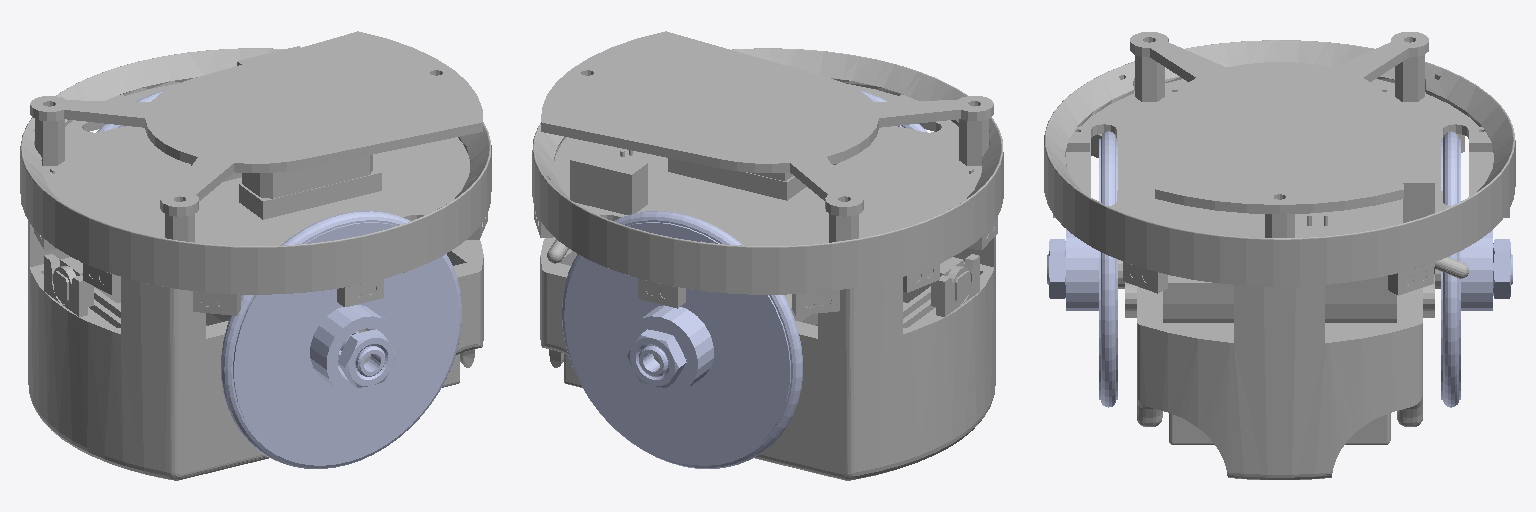
URDF robot description (epuck2):
<?xml version = "1.0" ?>
<robot
  name="epuck2">
<link name="base_link"/>

  <joint name= "base_link_to_main_body" type = "fixed">
   <parent link = "base_link"/>
   <child link = "main_body"/>
   <origin rpy="0 0 1.57079633" xyz="0.0 -0.0 0.0"/>
  </joint>


  <link
    name="main_body">
    <inertial>
      <origin
        xyz="9.0274E-05 -0.00041659 0.019845"
        rpy="0 0 0" />
      <mass
        value="0.063515" />
      <inertia
        ixx="3.2227E-05"
        ixy="-2.691E-07"
        ixz="4.7122E-08"
        iyy="2.4227E-05"
        iyz="-1.2861E-06"
        izz="3.3868E-05" />
    </inertial>
    <visual>
      <origin
        xyz="0 0 0"
        rpy="0 0 0" />
      <geometry>
        <mesh
          filename="package://thymio_description/meshes/main_body.STL" />
      </geometry>
      <material
        name="">
        <color
          rgba="0.75294 0.75294 0.75294 1" />
      </material>
    </visual>
    <collision>
      <origin
        xyz="0 0 0"
        rpy="0 0 0" />
      <geometry>
        <mesh
          filename="package://thymio_description/meshes/main_body.STL" />
      </geometry>
    </collision>
  </link>
  
  <link name="proximity_0_link"/>
  <joint name="proximity_0_joint" type="fixed">
    <origin rpy="0 0 -0.2617994" xyz="0.04 -0.011 0.035"/>
    <parent link="base_link"/>
    <child link="proximity_0_link"/>
  </joint>
  <gazebo reference="proximity_0_link">
    <sensor name="proximity_0_sensor" type="ray">
      <frame name="proximity_0_link"/>
      <visualize>true</visualize>
      <update_rate>10</update_rate>
      <always_on>true</always_on>
      <ray>
        <scan>
          <horizontal>
            <samples>1</samples>
            <resolution>1</resolution>
            <min_angle>-0.0</min_angle>
            <max_angle>-0.0</max_angle>
          </horizontal>
          <vertical>
            <samples>1</samples>
            <resolution>1</resolution>
            <min_angle>-0.0</min_angle>
            <max_angle>-0.0</max_angle>
          </vertical>
        </scan>
        <range>
          <min>0.0</min>
          <!---max>0.12</max-->
          <max>1.0</max>
          <resolution>0.005</resolution>
        </range>
        <noise>
          <type>gaussian</type>
          <mean>0.0</mean>
          <stddev>0.0025</stddev>
        </noise>
      </ray>
      <plugin filename="libgazebo_ros_ray_sensor.so" name="proximity_0_controller">
        <!-- TODO: check if field `radiation` is still valid-->
        <radiation_type>infrared</radiation_type>
        <ros>
          <namespace>my_namespace</namespace>
          <argument>~/out:=proximity_0</argument>
        </ros>
        <output_type>sensor_msgs/Range</output_type>
      </plugin>
    </sensor>
    <material>Gazebo/DarkGrey</material>
  </gazebo>
  
  <link name="proximity_1_link"/>
  <joint name="proximity_1_joint" type="fixed">
    <origin rpy="0 0 -0.78539816" xyz="0.026 -0.026 0.035"/>
    <parent link="base_link"/>
    <child link="proximity_1_link"/>
  </joint>
  <gazebo reference="proximity_1_link">
    <sensor name="proximity_1_sensor" type="ray">
      <frame name="proximity_1_link"/>
      <visualize>true</visualize>
      <update_rate>10</update_rate>
      <always_on>true</always_on>
      <ray>
        <scan>
          <horizontal>
            <samples>1</samples>
            <resolution>1</resolution>
            <min_angle>-0.0</min_angle>
            <max_angle>-0.0</max_angle>
          </horizontal>
          <vertical>
            <samples>1</samples>
            <resolution>1</resolution>
            <min_angle>-0.0</min_angle>
            <max_angle>-0.0</max_angle>
          </vertical>
        </scan>
        <range>
          <min>0.0</min>
          <!---max>0.12</max-->
          <max>1.0</max>
          <resolution>0.005</resolution>
        </range>
        <noise>
          <type>gaussian</type>
          <mean>0.0</mean>
          <stddev>0.0025</stddev>
        </noise>
      </ray>
      <plugin filename="libgazebo_ros_ray_sensor.so" name="proximity_1_controller">
        <!-- TODO: check if field `radiation` is still valid-->
        <radiation_type>infrared</radiation_type>
        <ros>
          <namespace>my_namespace</namespace>
          <argument>~/out:=proximity_1</argument>
        </ros>
        <output_type>sensor_msgs/Range</output_type>
      </plugin>
    </sensor>
    <material>Gazebo/DarkGrey</material>
  </gazebo>
  
  <link name="proximity_2_link"/>
  <joint name="proximity_2_joint" type="fixed">
    <origin rpy="0 0 -1.57079633" xyz="0.001 -0.037 0.035"/>
    <parent link="base_link"/>
    <child link="proximity_2_link"/>
  </joint>
  <gazebo reference="proximity_2_link">
    <sensor name="proximity_2_sensor" type="ray">
      <frame name="proximity_2_link"/>
      <visualize>true</visualize>
      <update_rate>10</update_rate>
      <always_on>true</always_on>
      <ray>
        <scan>
          <horizontal>
            <samples>1</samples>
            <resolution>1</resolution>
            <min_angle>-0.0</min_angle>
            <max_angle>-0.0</max_angle>
          </horizontal>
          <vertical>
            <samples>1</samples>
            <resolution>1</resolution>
            <min_angle>-0.0</min_angle>
            <max_angle>-0.0</max_angle>
          </vertical>
        </scan>
        <range>
          <min>0.0</min>
          <!---max>0.12</max-->
          <max>1.0</max>
          <resolution>0.005</resolution>
        </range>
        <noise>
          <type>gaussian</type>
          <mean>0.0</mean>
          <stddev>0.0025</stddev>
        </noise>
      </ray>
      <plugin filename="libgazebo_ros_ray_sensor.so" name="proximity_2_controller">
        <!-- TODO: check if field `radiation` is still valid-->
        <radiation_type>infrared</radiation_type>
        <ros>
          <namespace>my_namespace</namespace>
          <argument>~/out:=proximity_2</argument>
        </ros>
        <output_type>sensor_msgs/Range</output_type>
      </plugin>
    </sensor>
    <material>Gazebo/DarkGrey</material>
  </gazebo>
  
  <link name="proximity_3_link"/>
  <joint name="proximity_3_joint" type="fixed">
    <origin rpy="0 0 -2.6179939" xyz="-0.032 -0.019 0.035"/>
    <parent link="base_link"/>
    <child link="proximity_3_link"/>
  </joint>
  <gazebo reference="proximity_3_link">
    <sensor name="proximity_3_sensor" type="ray">
      <frame name="proximity_3_link"/>
      <visualize>true</visualize>
      <update_rate>10</update_rate>
      <always_on>true</always_on>
      <ray>
        <scan>
          <horizontal>
            <samples>1</samples>
            <resolution>1</resolution>
            <min_angle>-0.0</min_angle>
            <max_angle>-0.0</max_angle>
          </horizontal>
          <vertical>
            <samples>1</samples>
            <resolution>1</resolution>
            <min_angle>-0.0</min_angle>
            <max_angle>-0.0</max_angle>
          </vertical>
        </scan>
        <range>
          <min>0.0</min>
          <!---max>0.12</max-->
          <max>1.0</max>
          <resolution>0.005</resolution>
        </range>
        <noise>
          <type>gaussian</type>
          <mean>0.0</mean>
          <stddev>0.0025</stddev>
        </noise>
      </ray>
      <plugin filename="libgazebo_ros_ray_sensor.so" name="proximity_3_controller">
        <!-- TODO: check if field `radiation` is still valid-->
        <radiation_type>infrared</radiation_type>
        <ros>
          <namespace>my_namespace</namespace>
          <argument>~/out:=proximity_3</argument>
        </ros>
        <output_type>sensor_msgs/Range</output_type>
      </plugin>
    </sensor>
    <material>Gazebo/DarkGrey</material>
  </gazebo>
  
  <link name="proximity_4_link"/>
  <joint name="proximity_4_joint" type="fixed">
    <origin rpy="0 0 2.6179939" xyz="-0.032 0.019 0.035"/>
    <parent link="base_link"/>
    <child link="proximity_4_link"/>
  </joint>
  <gazebo reference="proximity_4_link">
    <sensor name="proximity_4_sensor" type="ray">
      <frame name="proximity_4_link"/>
      <visualize>true</visualize>
      <update_rate>10</update_rate>
      <always_on>true</always_on>
      <ray>
        <scan>
          <horizontal>
            <samples>1</samples>
            <resolution>1</resolution>
            <min_angle>-0.0</min_angle>
            <max_angle>-0.0</max_angle>
          </horizontal>
          <vertical>
            <samples>1</samples>
            <resolution>1</resolution>
            <min_angle>-0.0</min_angle>
            <max_angle>-0.0</max_angle>
          </vertical>
        </scan>
        <range>
          <min>0.0</min>
          <!---max>0.12</max-->
          <max>1.0</max>
          <resolution>0.005</resolution>
        </range>
        <noise>
          <type>gaussian</type>
          <mean>0.0</mean>
          <stddev>0.0025</stddev>
        </noise>
      </ray>
      <plugin filename="libgazebo_ros_ray_sensor.so" name="proximity_4_controller">
        <!-- TODO: check if field `radiation` is still valid-->
        <radiation_type>infrared</radiation_type>
        <ros>
          <namespace>my_namespace</namespace>
          <argument>~/out:=proximity_4</argument>
        </ros>
        <output_type>sensor_msgs/Range</output_type>
      </plugin>
    </sensor>
    <material>Gazebo/DarkGrey</material>
  </gazebo>
  
  <link name="proximity_5_link"/>
  <joint name="proximity_5_joint" type="fixed">
    <origin rpy="0 0 1.57079633" xyz="0.001 0.037 0.035"/>
    <parent link="base_link"/>
    <child link="proximity_5_link"/>
  </joint>
  <gazebo reference="proximity_5_link">
    <sensor name="proximity_5_sensor" type="ray">
      <frame name="proximity_5_link"/>
      <visualize>true</visualize>
      <update_rate>10</update_rate>
      <always_on>true</always_on>
      <ray>
        <scan>
          <horizontal>
            <samples>1</samples>
            <resolution>1</resolution>
            <min_angle>-0.0</min_angle>
            <max_angle>-0.0</max_angle>
          </horizontal>
          <vertical>
            <samples>1</samples>
            <resolution>1</resolution>
            <min_angle>-0.0</min_angle>
            <max_angle>-0.0</max_angle>
          </vertical>
        </scan>
        <range>
          <min>0.0</min>
          <!---max>0.12</max-->
          <max>1.0</max>
          <resolution>0.005</resolution>
        </range>
        <noise>
          <type>gaussian</type>
          <mean>0.0</mean>
          <stddev>0.0025</stddev>
        </noise>
      </ray>
      <plugin filename="libgazebo_ros_ray_sensor.so" name="proximity_5_controller">
        <!-- TODO: check if field `radiation` is still valid-->
        <radiation_type>infrared</radiation_type>
        <ros>
          <namespace>my_namespace</namespace>
          <argument>~/out:=proximity_5</argument>
        </ros>
        <output_type>sensor_msgs/Range</output_type>
      </plugin>
    </sensor>
    <material>Gazebo/DarkGrey</material>
  </gazebo>
  
  <link name="proximity_6_link"/>
  <joint name="proximity_6_joint" type="fixed">
    <origin rpy="0 0 0.78539816" xyz="0.026 0.026 0.035"/>
    <parent link="base_link"/>
    <child link="proximity_6_link"/>
  </joint>
  <gazebo reference="proximity_6_link">
    <sensor name="proximity_6_sensor" type="ray">
      <frame name="proximity_6_link"/>
      <visualize>true</visualize>
      <update_rate>10</update_rate>
      <always_on>true</always_on>
      <ray>
        <scan>
          <horizontal>
            <samples>1</samples>
            <resolution>1</resolution>
            <min_angle>-0.0</min_angle>
            <max_angle>-0.0</max_angle>
          </horizontal>
          <vertical>
            <samples>1</samples>
            <resolution>1</resolution>
            <min_angle>-0.0</min_angle>
            <max_angle>-0.0</max_angle>
          </vertical>
        </scan>
        <range>
          <min>0.0</min>
          <!---max>0.12</max-->
          <max>1.0</max>
          <resolution>0.005</resolution>
        </range>
        <noise>
          <type>gaussian</type>
          <mean>0.0</mean>
          <stddev>0.0025</stddev>
        </noise>
      </ray>
      <plugin filename="libgazebo_ros_ray_sensor.so" name="proximity_6_controller">
        <!-- TODO: check if field `radiation` is still valid-->
        <radiation_type>infrared</radiation_type>
        <ros>
          <namespace>my_namespace</namespace>
          <argument>~/out:=proximity_6</argument>
        </ros>
        <output_type>sensor_msgs/Range</output_type>
      </plugin>
    </sensor>
    <material>Gazebo/DarkGrey</material>
  </gazebo>
  
  <link name="proximity_7_link"/>
  <joint name="proximity_7_joint" type="fixed">
    <origin rpy="0 0 0.2617994" xyz="0.04 0.011 0.035"/>
    <parent link="base_link"/>
    <child link="proximity_7_link"/>
  </joint>
  <gazebo reference="proximity_7_link">
    <sensor name="proximity_7_sensor" type="ray">
      <frame name="proximity_7_link"/>
      <visualize>true</visualize>
      <update_rate>10</update_rate>
      <always_on>true</always_on>
      <ray>
        <scan>
          <horizontal>
            <samples>1</samples>
            <resolution>1</resolution>
            <min_angle>-0.0</min_angle>
            <max_angle>-0.0</max_angle>
          </horizontal>
          <vertical>
            <samples>1</samples>
            <resolution>1</resolution>
            <min_angle>-0.0</min_angle>
            <max_angle>-0.0</max_angle>
          </vertical>
        </scan>
        <range>
          <min>0.0</min>
          <!---max>0.12</max-->
          <max>1.0</max>
          <resolution>0.005</resolution>
        </range>
        <noise>
          <type>gaussian</type>
          <mean>0.0</mean>
          <stddev>0.0025</stddev>
        </noise>
      </ray>
      <plugin filename="libgazebo_ros_ray_sensor.so" name="proximity_7_controller">
        <!-- TODO: check if field `radiation` is still valid-->
        <radiation_type>infrared</radiation_type>
        <ros>
          <namespace>my_namespace</namespace>
          <argument>~/out:=proximity_7</argument>
        </ros>
        <output_type>sensor_msgs/Range</output_type>
      </plugin>
    </sensor>
    <material>Gazebo/DarkGrey</material>
  </gazebo>
  
  <link
    name="left_wheel">
    <inertial>
      <origin
        xyz="-0.00048709 -3.5245E-18 2.4286E-17"
        rpy="0 0 0" />
      <mass
        value="0.0040981" />
      <inertia
        ixx="8.267E-07"
        ixy="-9.8761E-23"
        ixz="-8.6429E-13"
        iyy="4.304E-07"
        iyz="-2.3376E-22"
        izz="4.304E-07" />
    </inertial>
    <visual>
      <origin
        xyz="0 0 0"
        rpy="0 0 0" />
      <geometry>
        <mesh
          filename="package://thymio_description/meshes/left_wheel.STL" />
      </geometry>
      <material
        name="">
        <color
          rgba="0.79216 0.81961 0.93333 1" />
      </material>
    </visual>
    <collision>
      <origin
        xyz="0 0 0"
        rpy="0 0 0" />
      <geometry>
        <mesh
          filename="package://thymio_description/meshes/left_wheel.STL" />
      </geometry>
    </collision>
  </link>
  <joint
    name="left_joint"
    type="continuous">
    <origin
      xyz="0.0278 0 0.02"
      rpy="0 0 0" />
    <parent
      link="main_body" />
    <child
      link="left_wheel" />
    <axis
      xyz="1 0 0" />
    <limit
      effort="0.001"
      velocity="10" />
  </joint>
  <link
    name="right_wheel">

    <inertial>
      <origin
        xyz="0.00065056 4.0415E-18 7.2858E-17"
        rpy="0 0 0" />
      <mass
        value="0.0038059" />
      <inertia
        ixx="8.2274E-07"
        ixy="-1.0753E-22"
        ixz="8.6429E-13"
        iyy="4.2585E-07"
        iyz="2.3307E-22"
        izz="4.2585E-07" />
    </inertial>
    <visual>
      <origin
        xyz="0 0 0"
        rpy="0 0 0" />
      <geometry>
        <mesh
          filename="package://thymio_description/meshes/right_wheel.STL" />
      </geometry>
      <material
        name="">
        <color
          rgba="0.79216 0.81961 0.93333 1" />
      </material>
    </visual>
    <collision>
      <origin
        xyz="0 0 0"
        rpy="0 0 0" />
      <geometry>
        <mesh
          filename="package://thymio_description/meshes/right_wheel.STL" />
      </geometry>
    </collision>
  </link>

  <joint
    name="right_joint"
    type="continuous">
    <origin
      xyz="-0.0278 0 0.02"
      rpy="0 0 0" />
    <parent
      link="main_body" />
    <child
      link="right_wheel" />
    <axis
      xyz="1 0 0" />
    <limit
      effort="0.001"
      velocity="10" />
  </joint>
<gazebo reference="right_wheel">
    <selfCollide>true</selfCollide>
    <mu1>10</mu1>
    <mu2>10</mu2>
</gazebo>

<gazebo reference="left_wheel">
    <selfCollide>true</selfCollide>
    <mu1>10</mu1>
    <mu2>10</mu2>
</gazebo>
<gazebo>
  <!---plugin name="p3d_base_controller" filename="libgazebo_ros_p3d.so">
    <alwaysOn>true</alwaysOn>
    <updateRate>100.0</updateRate>
    <bodyName>base_link</bodyName>
    <topicName>position</topicName>
    <gaussianNoise>0</gaussianNoise>
    <frameName>map</frameName>
    <xyzOffsets>0 0 0</xyzOffsets> 
    <rpyOffsets>0 0 0</rpyOffsets>
    <interface:position name="p3d_base_position"/>
  </plugin-->
</gazebo>
<gazebo>
  <plugin name="differential_drive_controller" filename="libgazebo_ros_diff_drive.so">
    <alwaysOn>true</alwaysOn>
    <legacyMode>false</legacyMode>
    <updateRate>20</updateRate>
    <left_joint>left_joint</left_joint>
    <right_joint>right_joint</right_joint>
    <wheel_separation>0.05398</wheel_separation>
    <wheel_diameter>0.040</wheel_diameter>
    <torque>2</torque>
    <odometryFrame>odom</odometryFrame>
    <publishWheelTF>true</publishWheelTF>
    <wheelAcceleration>0</wheelAcceleration>
    <wheelTorque>0.0020</wheelTorque>
    <publishTf>1</publishTf>
    <odometrySource>1</odometrySource>
    <publishWheelJointState>true</publishWheelJointState>
    <robotMainFrame>footprint</robotMainFrame>
    <robotBaseFrame>base_link</robotBaseFrame>
    <namespace>my_namespace</namespace>
  </plugin>
  
  <plugin filename="libgazebo_ros_joint_state_publisher.so" name="joint_states">
      <joint_name>right_joint</joint_name>
      <joint_name>left_joint</joint_name>
      <update_rate>20.0</update_rate>
      <namespace>my_namespace</namespace>
    </plugin>
  
</gazebo>
</robot>

--- Facts derived from the render (not from the file) ---
Views: 3 orthographic renders of the robot side by side, from view 1: azimuth 30°, elevation 25°; view 2: azimuth 150°, elevation 25°; view 3: azimuth 270°, elevation 25°.
Robot: epuck2 — 12 links, 11 joints (2 continuous, 9 fixed); root link base_link; default pose: all joints at 0.
Links seen in each view (by area): view 1: main_body, right_wheel; view 2: main_body, left_wheel; view 3: main_body, right_wheel, left_wheel.
Boxes of the visible links, <box> form: main_body: <box>20,31,491,480</box>; right_wheel: <box>221,211,461,468</box>; main_body: <box>532,31,1003,480</box>; left_wheel: <box>562,211,802,468</box>; main_body: <box>1044,32,1515,479</box>; right_wheel: <box>1047,131,1117,407</box>; left_wheel: <box>1441,131,1512,407</box>.
Bounding box of the posed robot: 0.0724 × 0.0723 × 0.0484 m (x, y, z).
Meshes: 3 distinct files referenced, 3 mesh visuals loaded (3 binary STL).
